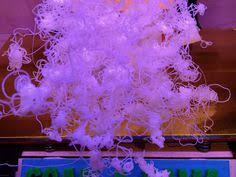fail: (33, 2, 217, 144), (62, 135, 180, 177), (1, 73, 56, 120), (2, 33, 33, 72)
